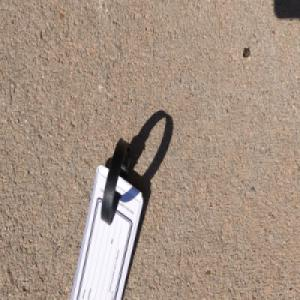LuggageTag: (69, 136, 145, 300)
